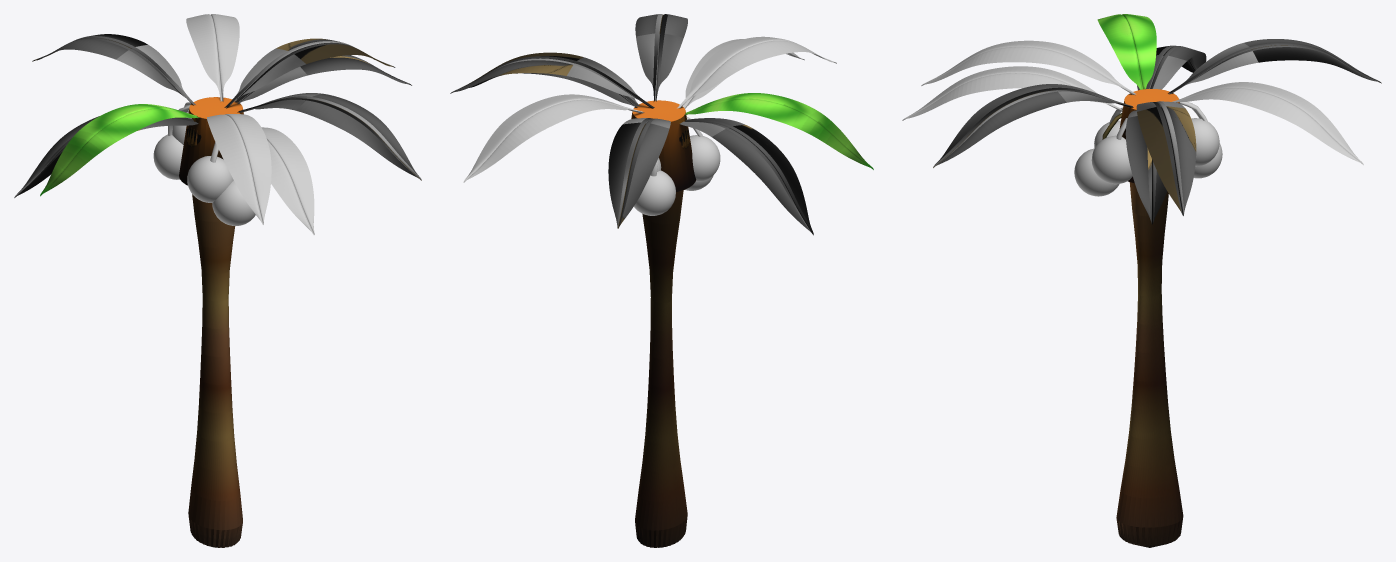
Rendered from coconut tree_03.fbx.
The picture shows the model from 3 angles, left to right: view 1: azimuth 30°, elevation 25°; view 2: azimuth 150°, elevation 25°; view 3: azimuth 270°, elevation 25°; orthographic projection. The views are drawn at different scales.
Parts seen in each view (by area): view 1: 柱体, 平面.007, 平面.004, 平面.006, 平面.008, 平面.005, 平面.002, 平面.003, 柱体.001, 平面, 球体.002, 平面.001 (+2 smaller); view 2: 柱体, 平面.001, 平面.002, 平面.003, 平面.004, 平面.005, 平面.007, 平面.006, 柱体.001, 球体.003, 球体.002, 平面.008 (+1 smaller); view 3: 柱体, 平面.005, 平面.006, 平面.003, 平面.007, 平面.002, 平面.008, 平面.004, 平面, 球体.004, 平面.001, 球体 (+2 smaller).
Part boxes in pixels (x1,y1,x2,y2): 柱体: (186,127,242,547); 平面.007: (207,114,271,224); 平面.004: (40,104,199,196); 平面.006: (237,93,421,180); 平面.008: (261,127,314,235); 平面.005: (224,38,395,108); 平面.002: (32,34,195,105); 平面.003: (186,14,239,101); 柱体.001: (179,97,243,185); 平面: (234,55,411,103); 球体.002: (187,156,233,202); 平面.001: (14,116,198,197); 柱体: (635,127,689,547); 平面.001: (680,118,813,235); 平面.002: (608,118,670,228); 平面.003: (463,94,644,182); 平面.004: (685,93,873,169); 平面.005: (450,52,654,108); 平面.007: (677,36,836,108); 平面.006: (635,14,687,101); 柱体.001: (631,100,696,191); 球体.003: (634,170,675,215); 球体.002: (690,135,720,181); 平面.008: (682,39,804,108); 柱体: (1116,182,1183,547); 平面.005: (1136,101,1196,215); 平面.006: (933,84,1133,167); 平面.003: (1172,82,1363,165); 平面.007: (921,40,1136,95); 平面.002: (1168,39,1381,94); 平面.008: (902,66,1122,120); 平面.004: (1097,14,1156,89); 平面: (1125,110,1167,224); 球体.004: (1091,135,1132,184); 平面.001: (1137,45,1206,90); 球体: (1074,148,1119,196).
Size of the model in its own units: 3527 by 4057 by 3654.
